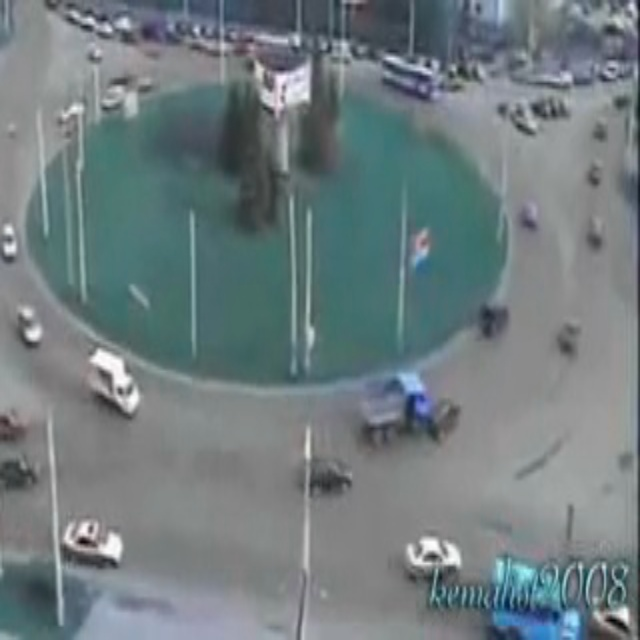acc: (347, 379, 462, 460)
